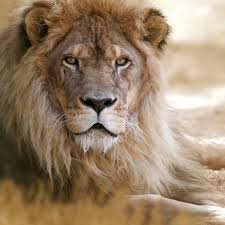lion: (13, 8, 172, 176)
